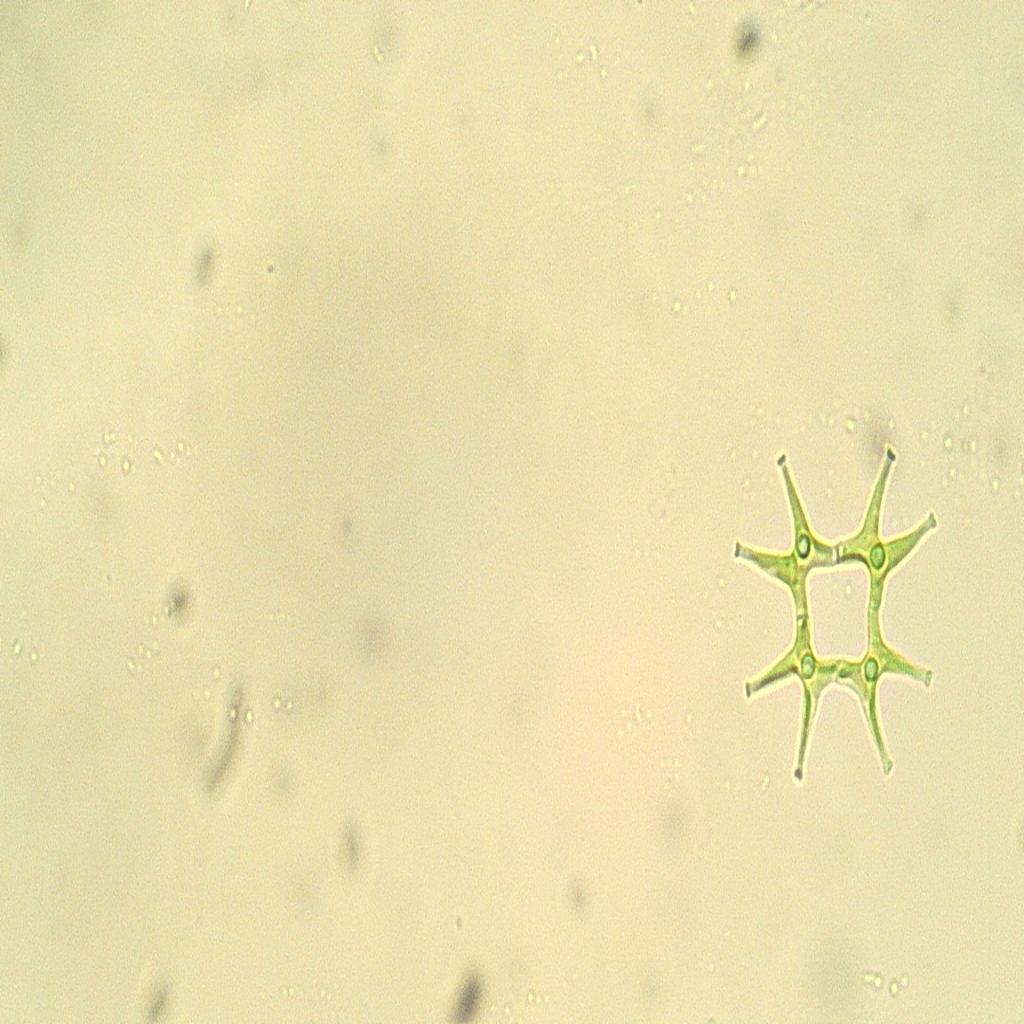Pediastrum_10: (714, 393, 956, 811)
